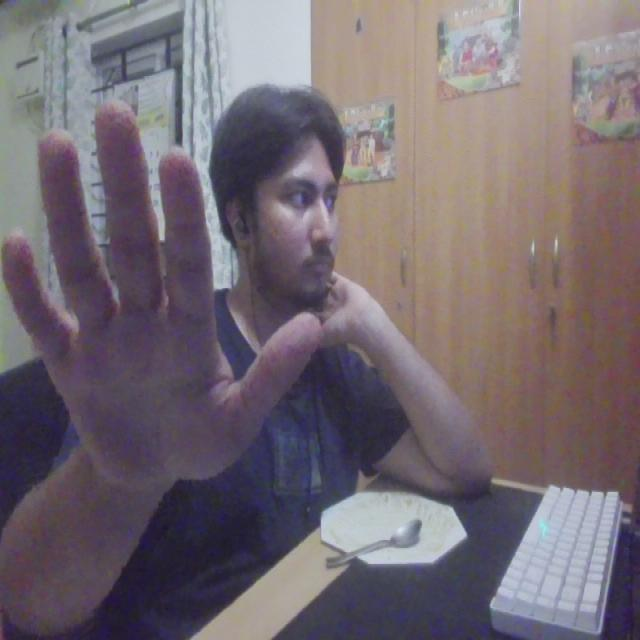hello: (5, 99, 326, 495)
